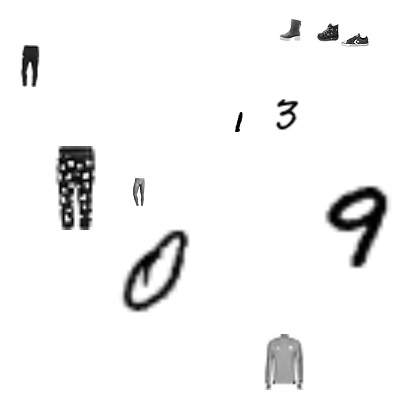0: (96, 215, 208, 327)
1: (225, 108, 253, 136)
3: (265, 92, 307, 134)
9: (302, 163, 414, 275)
Ankle_boot: (317, 21, 339, 43), (279, 19, 301, 41)
Pullover: (255, 334, 311, 390)
Sneaker: (341, 26, 369, 54)
Trouser: (32, 146, 116, 230), (9, 45, 51, 87), (125, 178, 153, 206)
